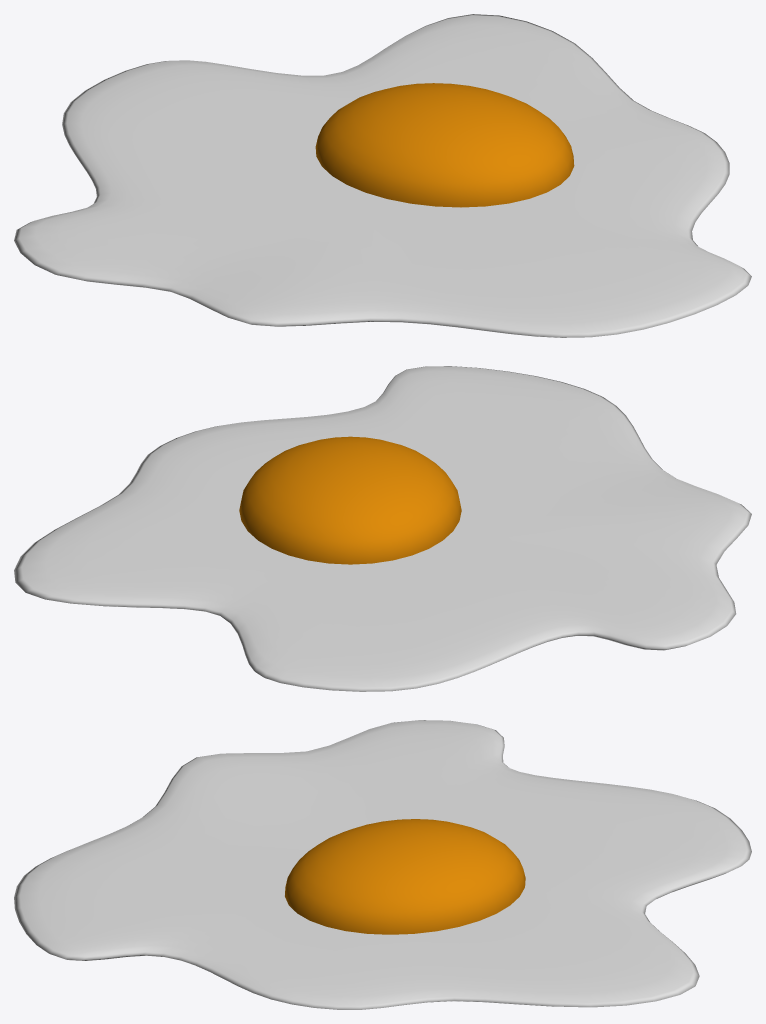
Rendered from 2_UV_huevo.fbx.
3 renders of one model, top to bottom at view 1: azimuth 30°, elevation 25°; view 2: azimuth 150°, elevation 25°; view 3: azimuth 270°, elevation 25°, orthographic. The views are drawn at different scales.
Parts seen in each view (by area): view 1: EXP_Huevo; view 2: EXP_Huevo; view 3: EXP_Huevo.
Boxes of the visible parts, box(x1,y1,x2,y2) form: EXP_Huevo: box(14, 14, 751, 337); EXP_Huevo: box(14, 366, 751, 691); EXP_Huevo: box(14, 720, 751, 1009).
Size of the model in its own units: 0.4906 by 0.0557 by 0.5278.
